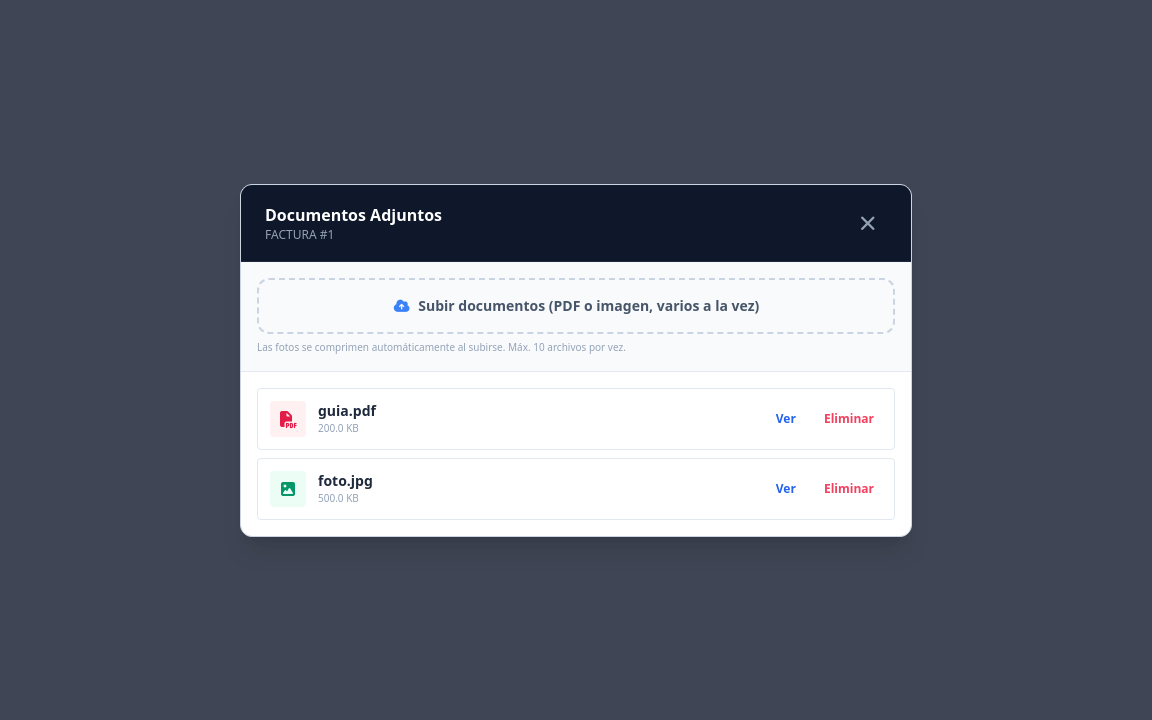
ModalDocumentosFactura › elimina un documento tras confirmar, y refresca la lista
Expected: the text "guia.pdf" is shown, [318,401,376,420]
What coordinates should you click on to do the following:
click the button "Eliminar" in the row of "guia.pdf"
I would click on:
 (849, 418)
Its box is [816,410,882,426].
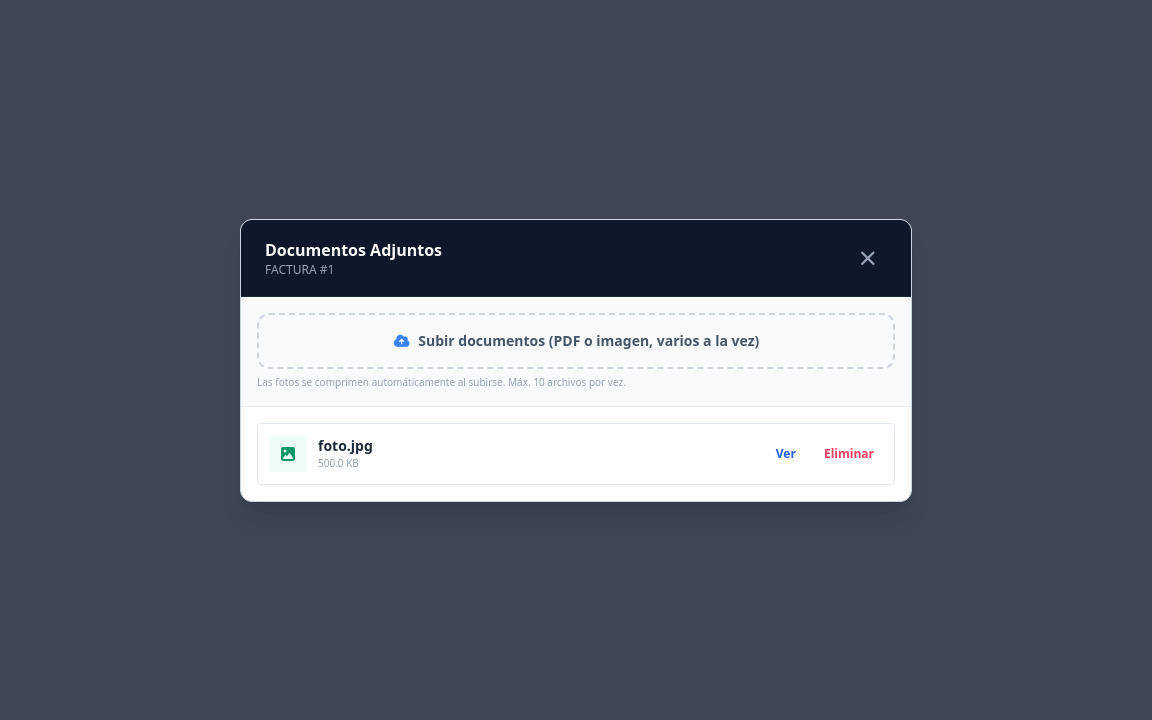
Now the text "guia.pdf" is gone
